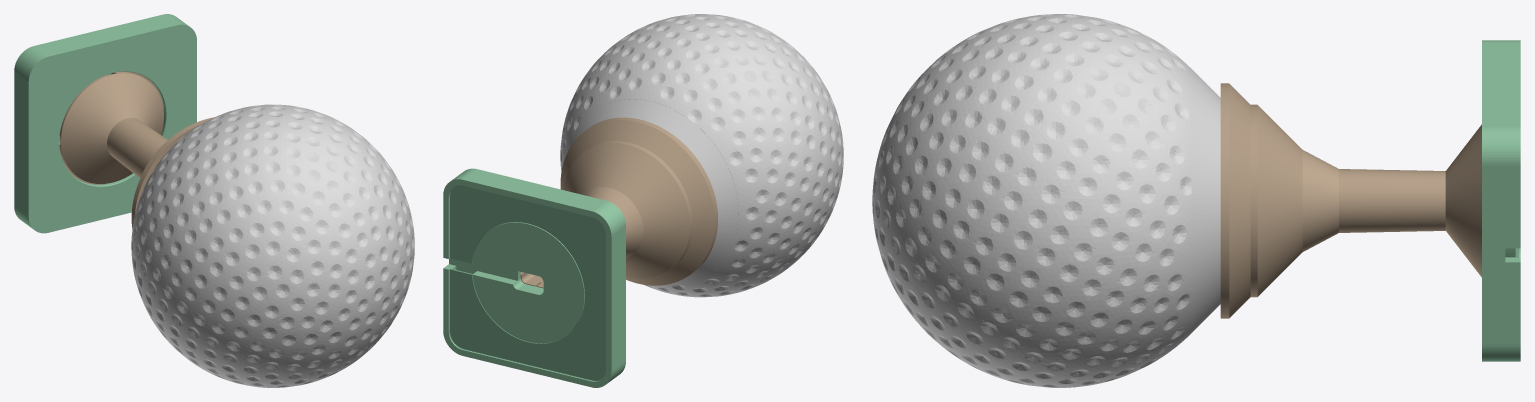
File: golf_tee_lamp_assembly.glb
The picture shows the model from 3 angles, left to right: view 1: azimuth 30°, elevation 25°; view 2: azimuth 150°, elevation 25°; view 3: azimuth 270°, elevation 25°; orthographic projection. The views are drawn at different scales.
Parts seen in each view (by area): view 1: Golf_Ball_Assembled, Golf_Grass_Base, Golf_Tee; view 2: Golf_Ball_Assembled, Golf_Grass_Base, Golf_Tee, Golf_Ballast_Cover; view 3: Golf_Ball_Assembled, Golf_Tee, Golf_Grass_Base.
Part boxes in pixels (x1,y1,x2,y2): Golf_Ball_Assembled: [131, 104, 414, 387]; Golf_Grass_Base: [14, 14, 196, 233]; Golf_Tee: [59, 71, 213, 228]; Golf_Ball_Assembled: [560, 14, 843, 297]; Golf_Grass_Base: [443, 168, 625, 387]; Golf_Tee: [520, 117, 717, 288]; Golf_Ballast_Cover: [450, 185, 605, 380]; Golf_Ball_Assembled: [872, 14, 1220, 387]; Golf_Tee: [1220, 83, 1481, 318]; Golf_Grass_Base: [1482, 40, 1520, 361].
Bounding box in the file's own units: 175 × 175 × 303.
